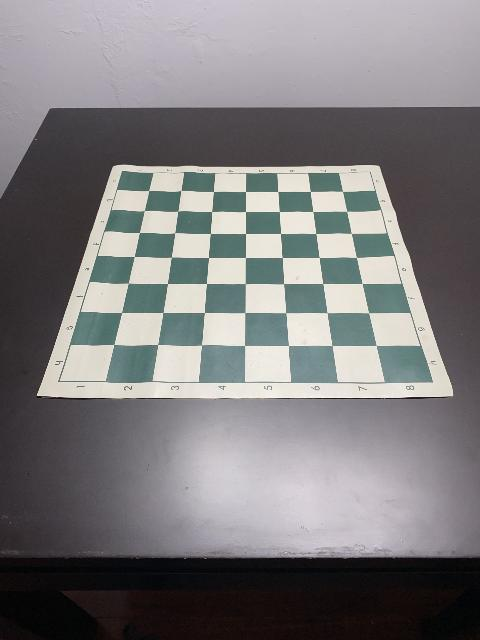board: (37, 162, 454, 400)
